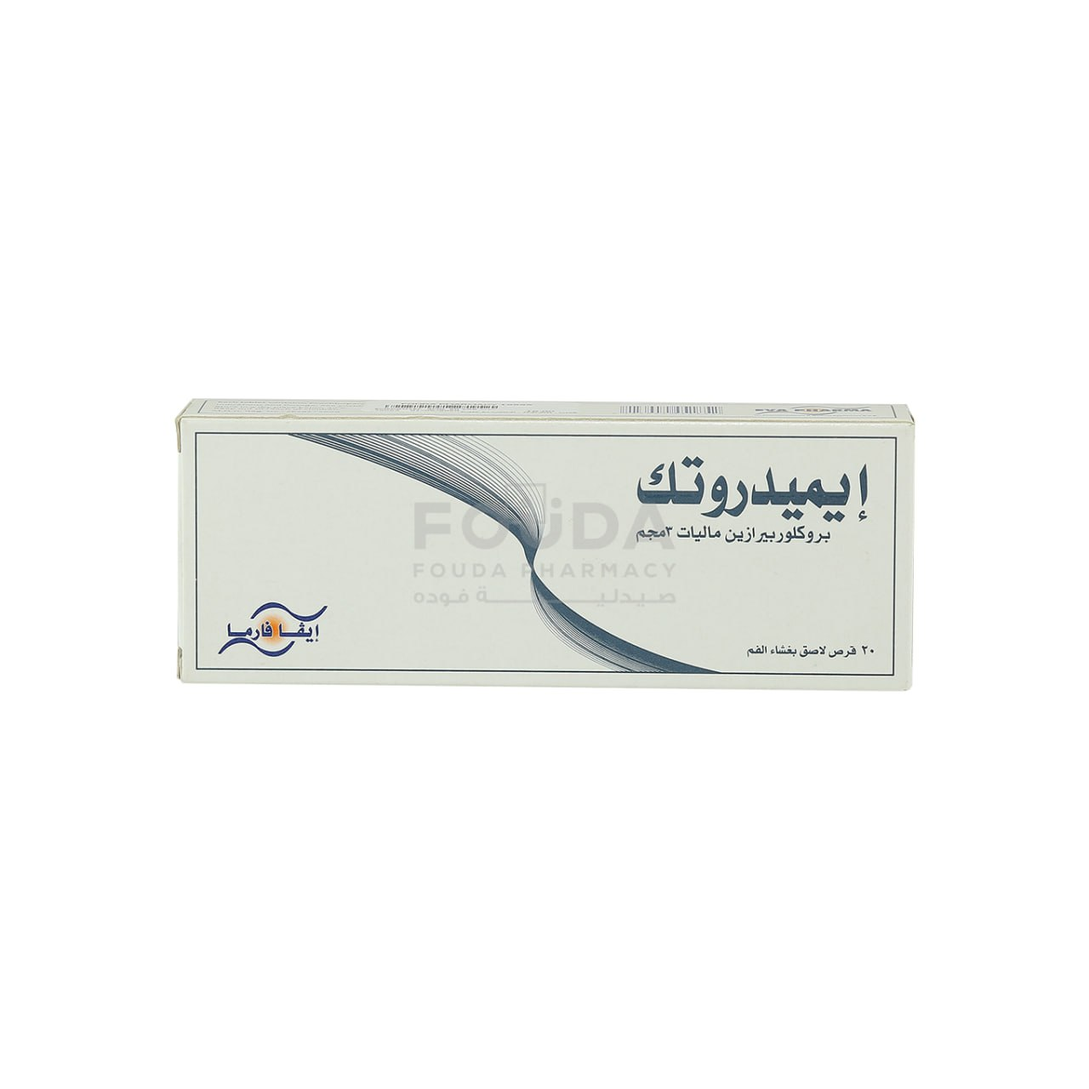Medicine: (167, 377, 930, 720)
